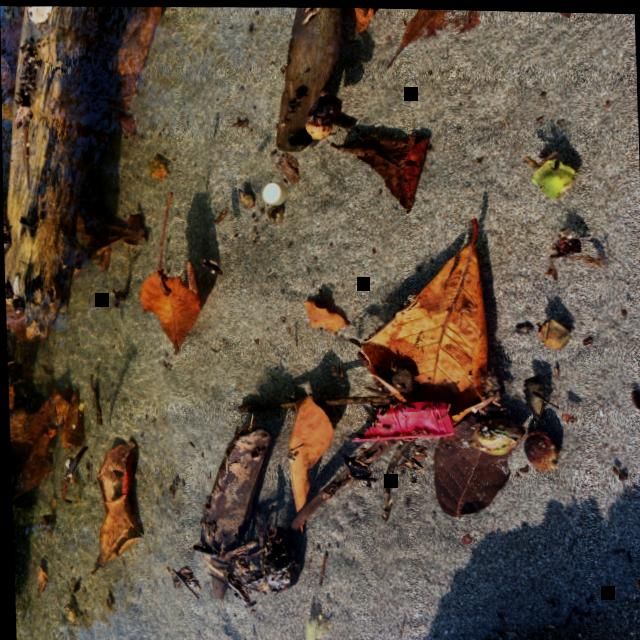Other plastic bottle: (349, 400, 451, 440)
Plastic bottle cap: (259, 180, 285, 204)
